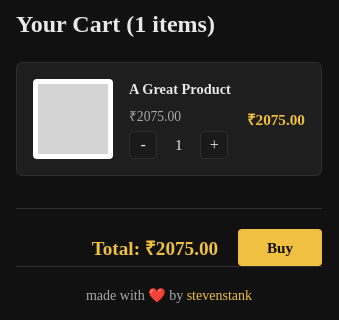
Scenario: Cart › removes item from cart when quantity reaches zero
This screenshot has width=339, height=320.
Expected: the heading "A Great Product" is shown, [129,79,231,99]
Click the button named "decrease quantity": (143, 145) [129,131,157,159]
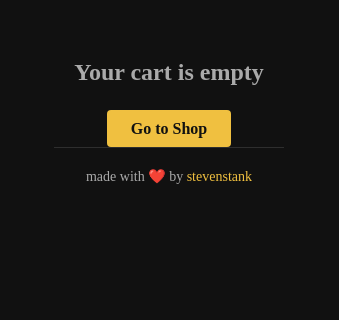
Expected: the heading "A Great Product" is gone
